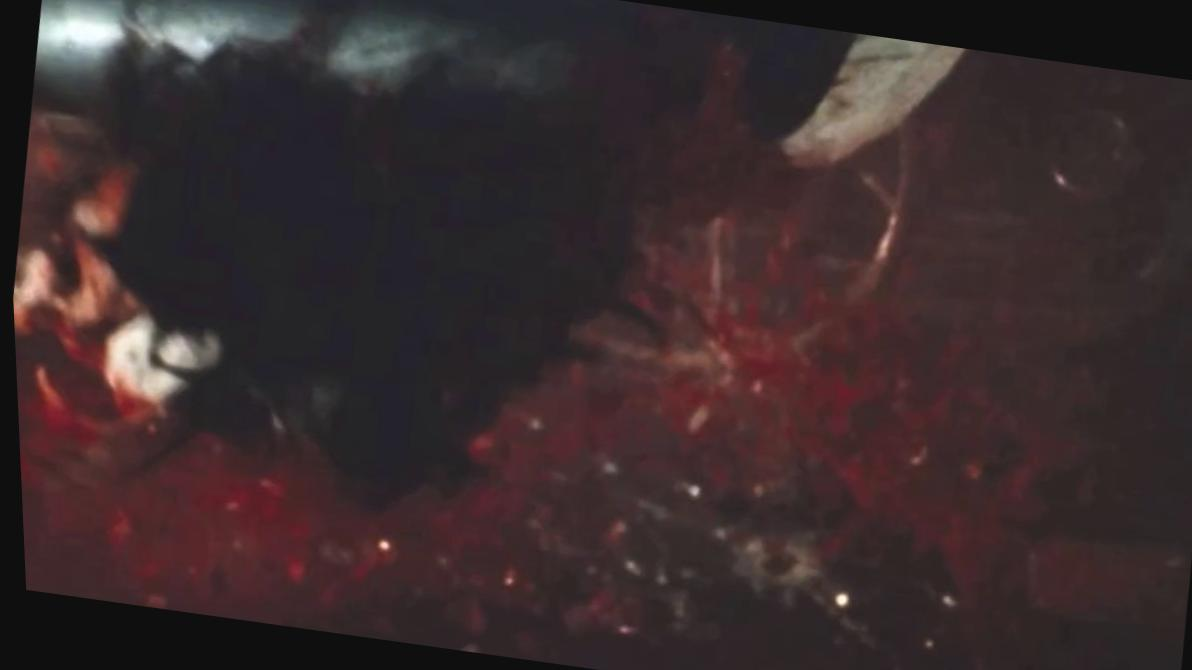Fire: (12, 217, 1191, 670)
